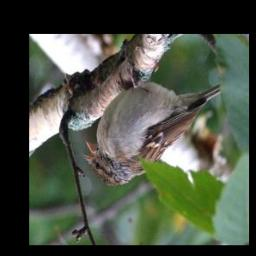Sparrow: (79, 62, 222, 188)
